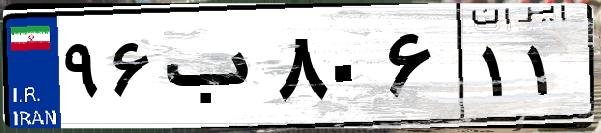0: (330, 28, 385, 110)
1: (475, 38, 525, 113), (525, 38, 570, 115)
6: (385, 28, 445, 110), (110, 28, 158, 98)
8: (270, 28, 330, 110)
9: (57, 26, 110, 100)
ب: (158, 20, 270, 120)
